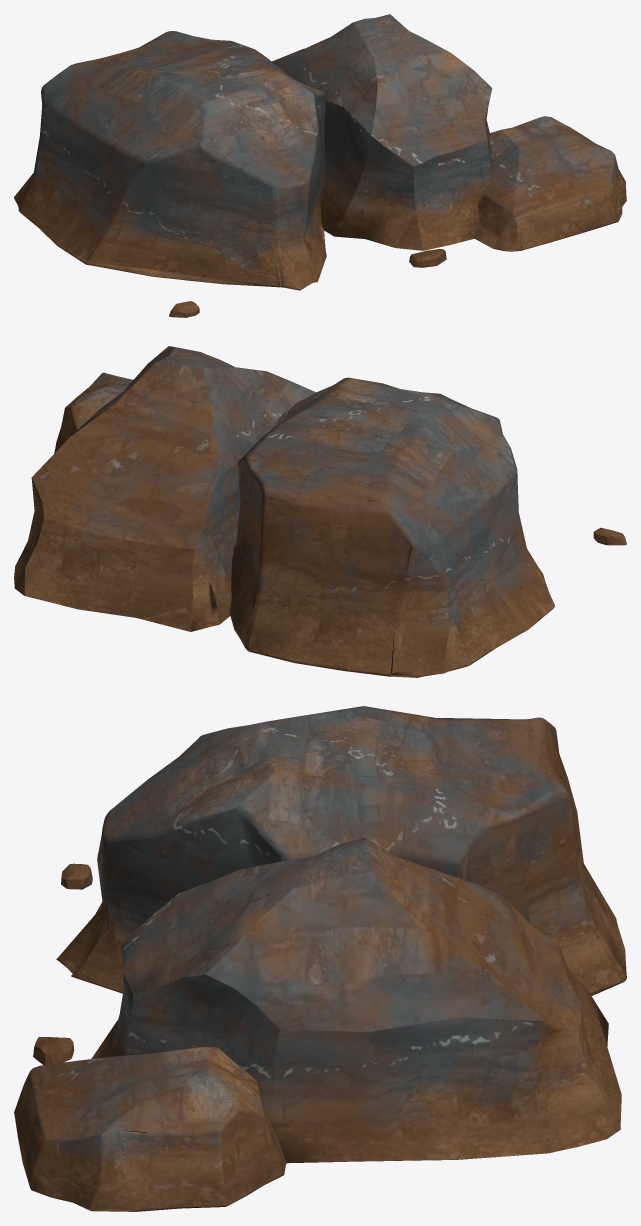
File: titanium-split-lens.glb
3 views of the same model, one above another, from view 1: azimuth 30°, elevation 25°; view 2: azimuth 150°, elevation 25°; view 3: azimuth 270°, elevation 25° (orthographic). The views are drawn at different scales.
Visible parts, largest first — view 1: Titanium split-lens / baked runtime; view 2: Titanium split-lens / baked runtime; view 3: Titanium split-lens / baked runtime.
Part boxes in pixels (x1=…): Titanium split-lens / baked runtime: x1=14, y1=14, x2=626, y2=317; Titanium split-lens / baked runtime: x1=14, y1=346, x2=626, y2=677; Titanium split-lens / baked runtime: x1=14, y1=706, x2=626, y2=1211.
Bounding box in the file's own units: 9.43 × 2.97 × 6.91.
Materials: 1 (1 with a texture image).
